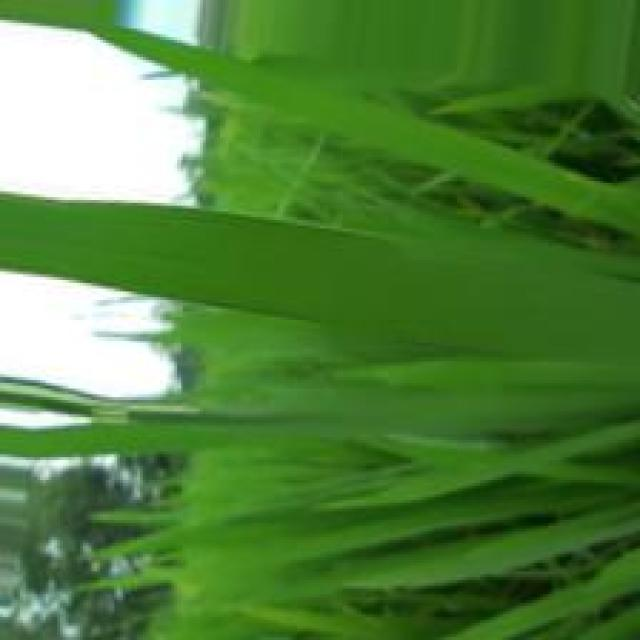HealthyLeaf: (6, 198, 412, 333)
